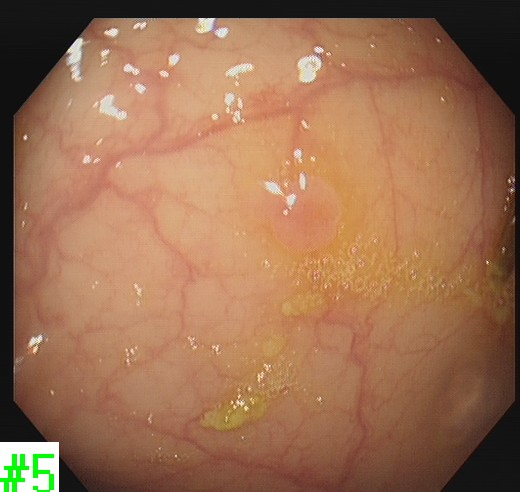adenoma: (265, 175, 343, 256)
